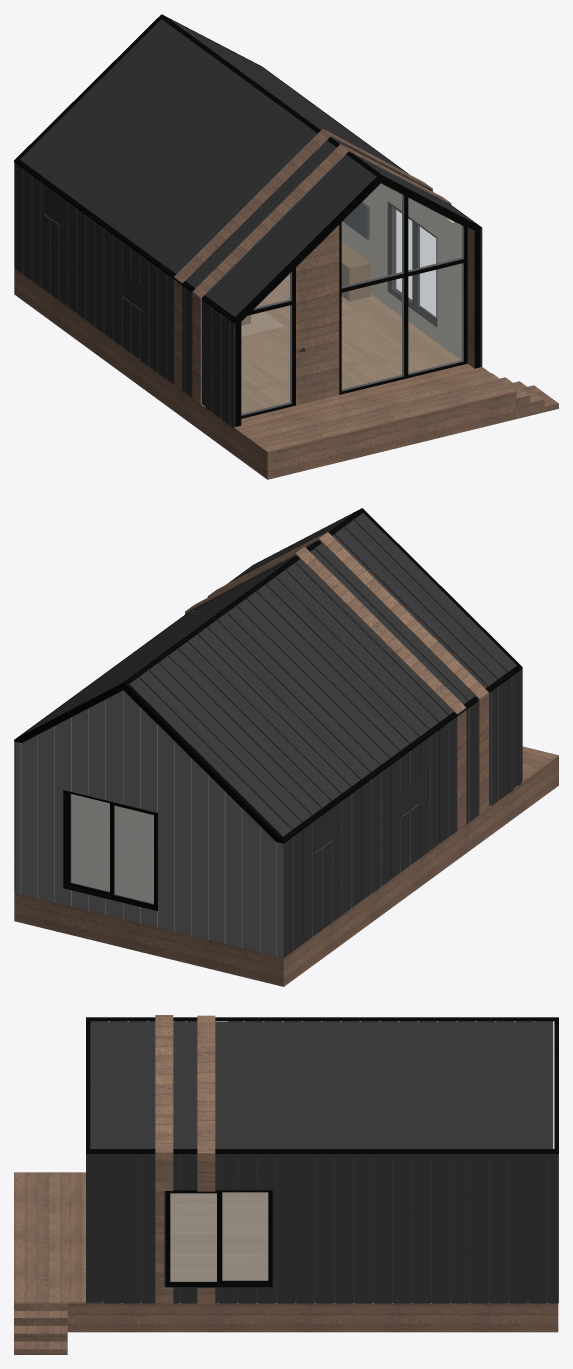
3 views of the same model, one above another, from view 1: azimuth 30°, elevation 25°; view 2: azimuth 150°, elevation 25°; view 3: azimuth 270°, elevation 25° (orthographic). The views are drawn at different scales.
Parts seen in each view (by area): view 1: empty_1049, empty_1045, empty_1000, empty_993, empty_980, empty_981, empty_976, empty_978, empty_982, Front_Wood_Entrance_Door, empty_840, empty_855 (+61 smaller); view 2: empty_973, empty_1049, RearWall_Int_Plaster_Gable, empty_840, empty_855, empty_838, empty_330, empty_331, empty_332, empty_333, empty_843, empty_899 (+53 smaller); view 3: empty_1069, empty_1049, empty_1045, empty_1000, empty_906, empty_843, empty_2, empty_855, empty_350, empty_351, empty_352, empty_353 (+27 smaller).
Part boxes in pixels (x1,y1,x2,y2): empty_1049: (14, 268, 515, 479); empty_1045: (229, 363, 558, 453); empty_1000: (241, 274, 460, 413); empty_993: (341, 184, 461, 359); empty_980: (342, 278, 403, 390); empty_981: (408, 263, 463, 374); empty_976: (241, 182, 467, 418); empty_978: (342, 183, 403, 288); empty_982: (241, 305, 291, 415); Front_Wood_Entrance_Door: (296, 289, 339, 405); empty_840: (14, 14, 481, 321); empty_855: (192, 144, 451, 405); empty_973: (21, 690, 276, 956); empty_1049: (14, 757, 558, 986); RearWall_Int_Plaster_Gable: (71, 794, 153, 903); empty_840: (15, 508, 521, 841); empty_855: (207, 532, 488, 815); empty_838: (185, 546, 466, 830); empty_330: (114, 806, 153, 904); empty_331: (114, 806, 153, 903); empty_332: (71, 794, 109, 891); empty_333: (71, 794, 109, 891); empty_843: (14, 508, 522, 843); empty_899: (187, 634, 350, 793); empty_1069: (86, 1154, 558, 1303); empty_1049: (67, 1303, 558, 1332); empty_1045: (14, 1172, 103, 1354); empty_1000: (170, 1192, 268, 1281); empty_906: (108, 1022, 534, 1148); empty_843: (86, 1017, 558, 1153); empty_2: (140, 1154, 547, 1302); empty_855: (155, 1015, 173, 1304); empty_350: (170, 1193, 216, 1281); empty_351: (170, 1193, 216, 1281); empty_352: (222, 1192, 267, 1280); empty_353: (222, 1192, 267, 1280).
Size of the model in its own units: 6.2 by 4.99 by 9.31.
Materials: 41 (24 with a texture image).
